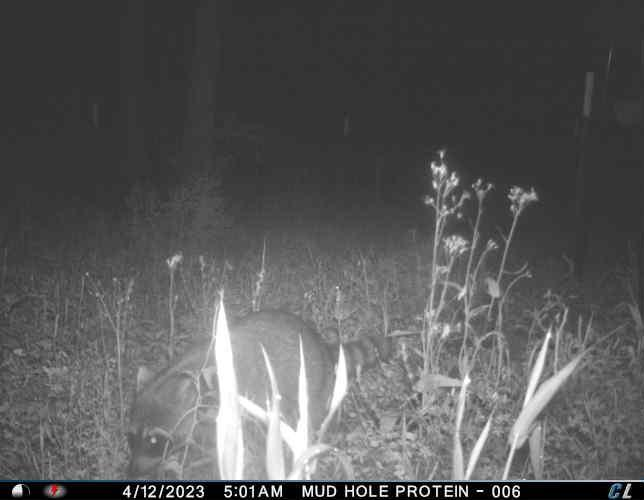Raccoon: (122, 307, 399, 481)
